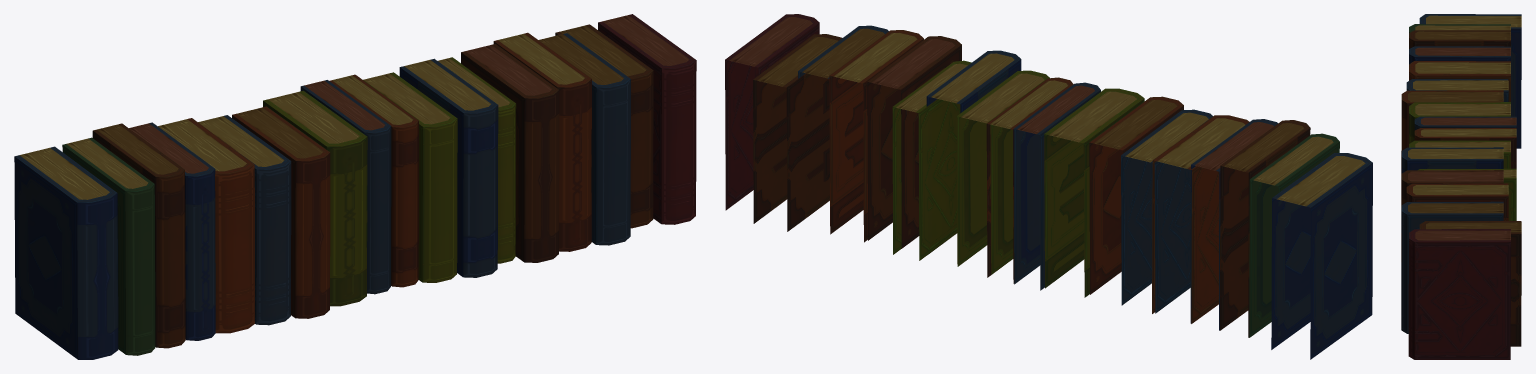
Rendered from bookgroup-medium-2.glb.
3 renders of one model, left to right at view 1: azimuth 30°, elevation 25°; view 2: azimuth 150°, elevation 25°; view 3: azimuth 270°, elevation 25°, orthographic. The views are drawn at different scales.
Parts seen in each view (by area): view 1: BookGroup_Medium_2; view 2: BookGroup_Medium_2; view 3: BookGroup_Medium_2.
Part boxes in pixels (box(x1,y1,x2,y2)): BookGroup_Medium_2: box(14, 14, 696, 359); BookGroup_Medium_2: box(725, 14, 1372, 359); BookGroup_Medium_2: box(1401, 14, 1521, 359).
Bounding box in the file's own units: 1.1 × 0.2949 × 0.2475.
1 material, 1 textured.
